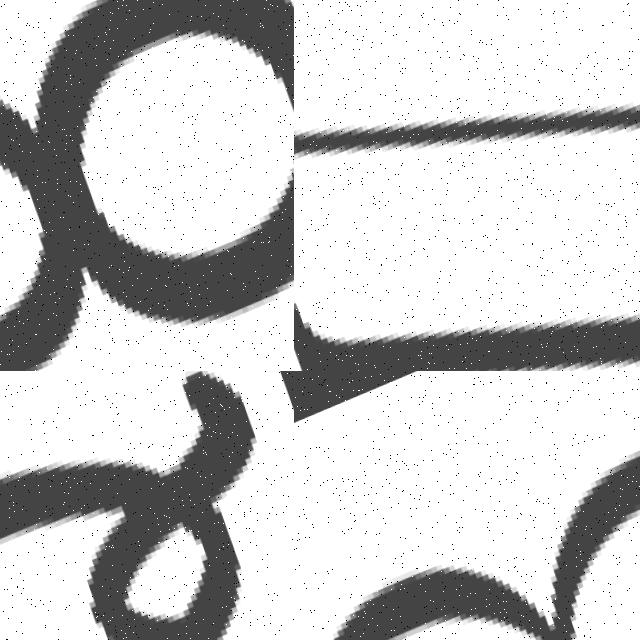8: (0, 0, 294, 371)
B: (327, 460, 640, 640)
Q: (0, 371, 294, 640)
U: (294, 0, 640, 371)
